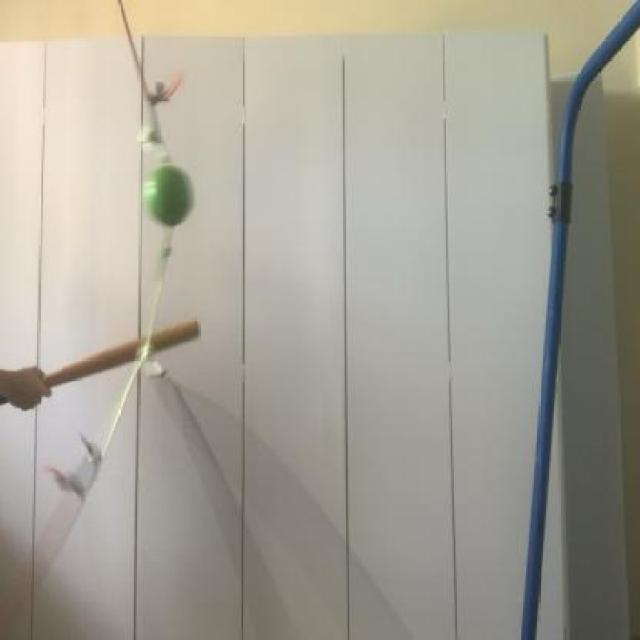baseball: (124, 144, 211, 245)
